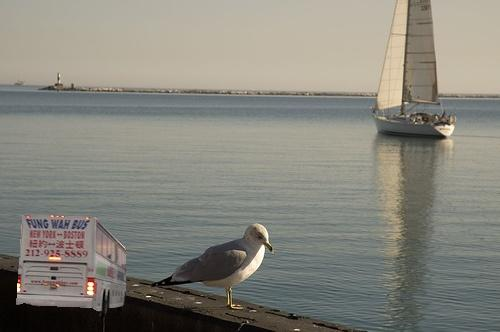tampered: (17, 216, 126, 317)
